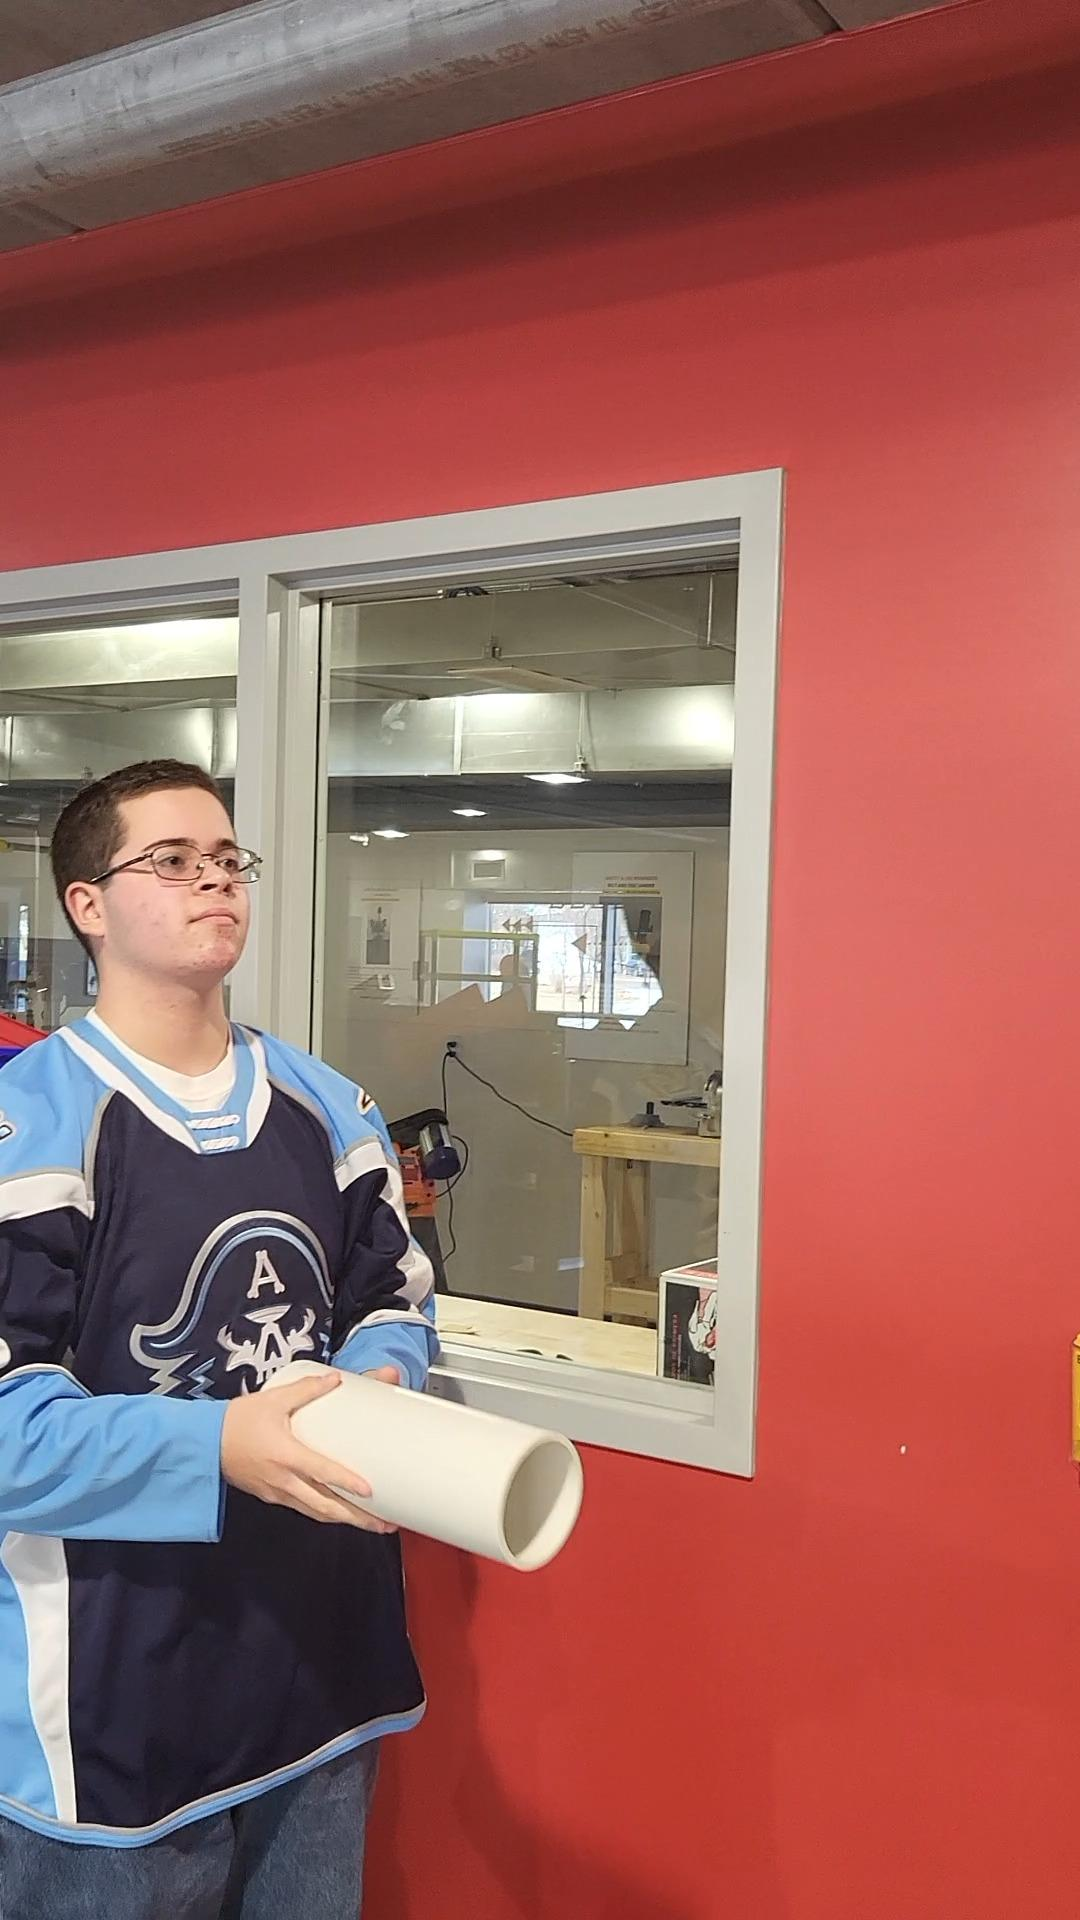coral: (253, 1353, 589, 1571)
